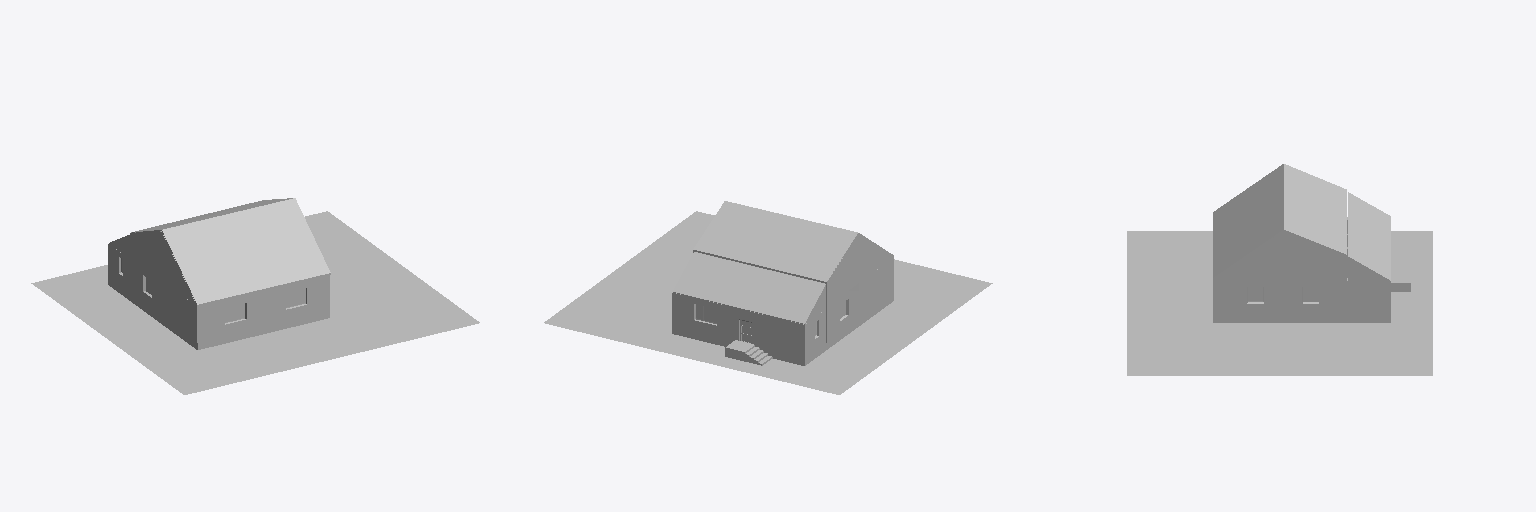
Rendered from RoofUpdate.obj.
3 views of the same model, side by side, from view 1: azimuth 30°, elevation 25°; view 2: azimuth 150°, elevation 25°; view 3: azimuth 270°, elevation 25° (orthographic).
Visible parts, largest first — view 1: polySurface1 pasted__pPlane1, pCube31, pasted__pPlane1 polySurface25, pasted__pPlane1 polySurface21, pCube35, pasted__pPlane1 polySurface2, pasted__pPlane1 polySurface31 polySurface24, pasted__pPlane1 polySurface24 polySurface32, pasted__pPlane1 polySurface27; view 2: polySurface1 pasted__pPlane1, pCube31, pCube26, pasted__pPlane1 polySurface19, pCube35, pasted__pPlane1 polySurface31 polySurface24, pasted__pPlane1 polySurface24 polySurface32, pasted__pPlane1 polySurface26, pasted__pPlane1 polySurface27; view 3: polySurface1 pasted__pPlane1, pCube31, pCube36, pCube26, pasted__pPlane1 polySurface33 polySurface29, pasted__pPlane1 polySurface29 polySurface34, pasted__pPlane1 polySurface22, pasted__pPlane1 polySurface2.
Boxes of the visible parts, <box> form: polySurface1 pasted__pPlane1: <box>31,211,479,394</box>; pCube31: <box>131,198,330,306</box>; pasted__pPlane1 polySurface25: <box>193,290,265,342</box>; pasted__pPlane1 polySurface21: <box>266,276,322,325</box>; pCube35: <box>130,231,196,305</box>; pasted__pPlane1 polySurface2: <box>130,294,329,349</box>; pasted__pPlane1 polySurface31 polySurface24: <box>130,258,161,315</box>; pasted__pPlane1 polySurface24 polySurface32: <box>162,281,192,338</box>; pasted__pPlane1 polySurface27: <box>112,247,129,292</box>; polySurface1 pasted__pPlane1: <box>544,211,992,394</box>; pCube31: <box>693,201,893,307</box>; pCube26: <box>673,252,825,324</box>; pasted__pPlane1 polySurface19: <box>672,292,807,357</box>; pCube35: <box>825,234,893,305</box>; pasted__pPlane1 polySurface31 polySurface24: <box>826,283,858,342</box>; pasted__pPlane1 polySurface24 polySurface32: <box>859,261,889,318</box>; pasted__pPlane1 polySurface26: <box>672,326,825,365</box>; pasted__pPlane1 polySurface27: <box>808,310,825,355</box>; polySurface1 pasted__pPlane1: <box>1127,231,1432,375</box>; pCube31: <box>1213,164,1346,280</box>; pCube36: <box>1214,231,1345,278</box>; pCube26: <box>1348,192,1390,280</box>; pasted__pPlane1 polySurface33 polySurface29: <box>1213,281,1289,314</box>; pasted__pPlane1 polySurface29 polySurface34: <box>1290,281,1346,314</box>; pasted__pPlane1 polySurface22: <box>1347,278,1383,314</box>; pasted__pPlane1 polySurface2: <box>1213,315,1346,322</box>.
Size of the model in its own units: 205 by 62.66 by 184.